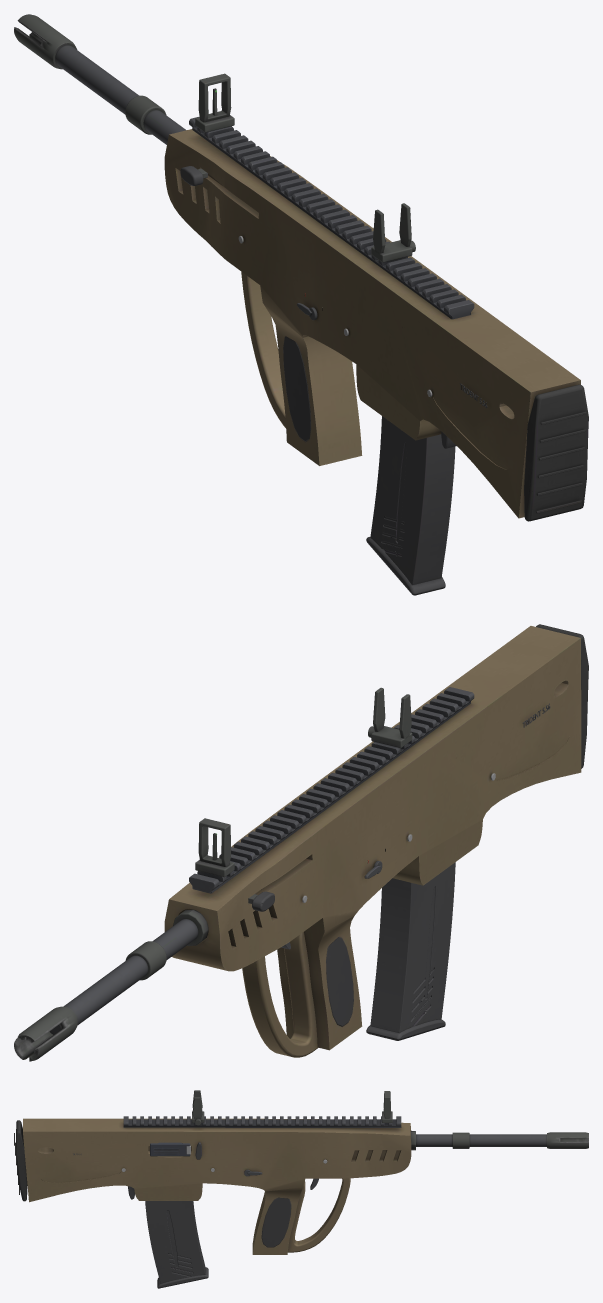
The model's file is burst.glb.
The picture shows the model from 3 angles, top to bottom: view 1: azimuth 30°, elevation 25°; view 2: azimuth 150°, elevation 25°; view 3: azimuth 270°, elevation 25°; orthographic projection. The views are drawn at different scales.
Visible parts, largest first — view 1: body, mag; view 2: body, mag; view 3: body, mag, slide.
Boxes of the visible parts, x1,y1,x2,y2 form: body: [14, 14, 588, 521]; mag: [366, 416, 455, 595]; body: [14, 624, 588, 1061]; mag: [366, 862, 455, 1040]; body: [14, 1090, 588, 1254]; mag: [145, 1201, 208, 1288]; slide: [150, 1142, 190, 1156].
Bounding box in the file's own units: 0.061 × 0.2713 × 0.7414.
Materials: 15 (15 with a texture image).
